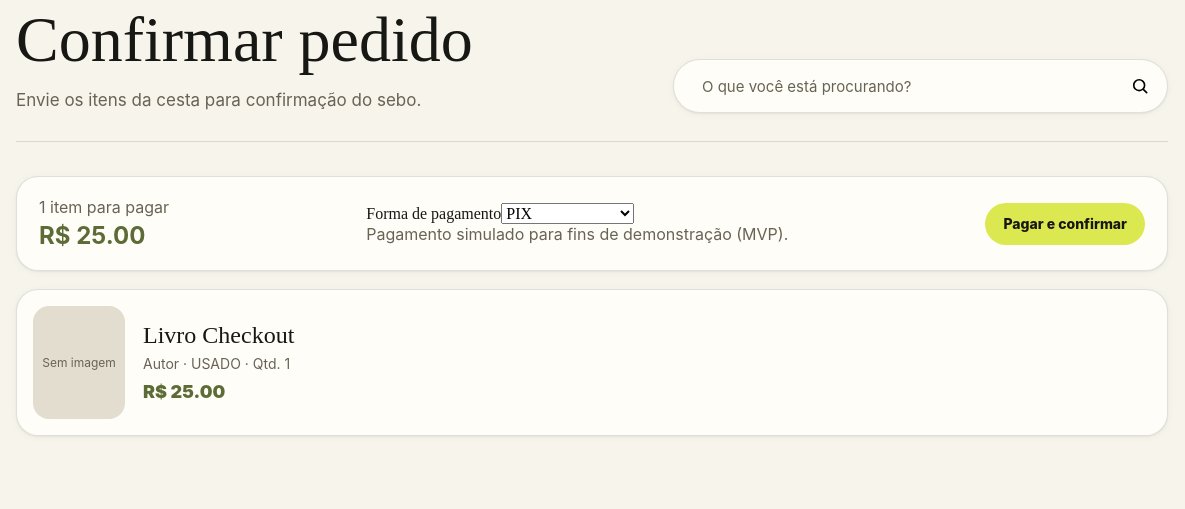
Test: cobertura de branches restantes › mostra erro ao confirmar pedido
Check: the heading "Livro Checkout" is shown, box [143, 322, 294, 348]
Click the button "Pagar e confirmar".
click(1065, 224)  # box [986, 203, 1145, 245]
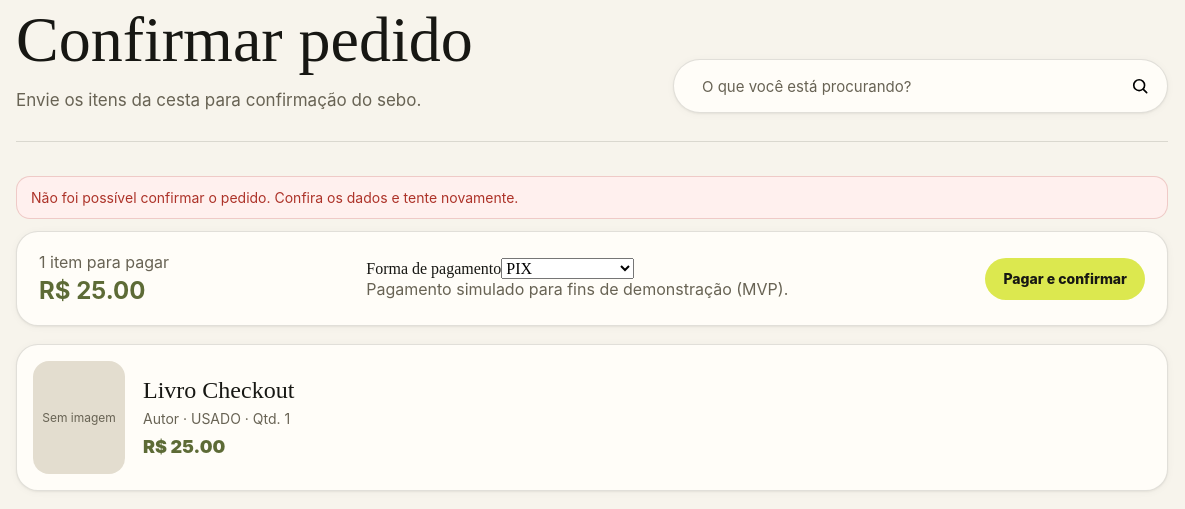
Check: the message reads "Não foi possível confirmar o pedido. Confira os dados e tente novamente.", box [31, 189, 518, 206]
